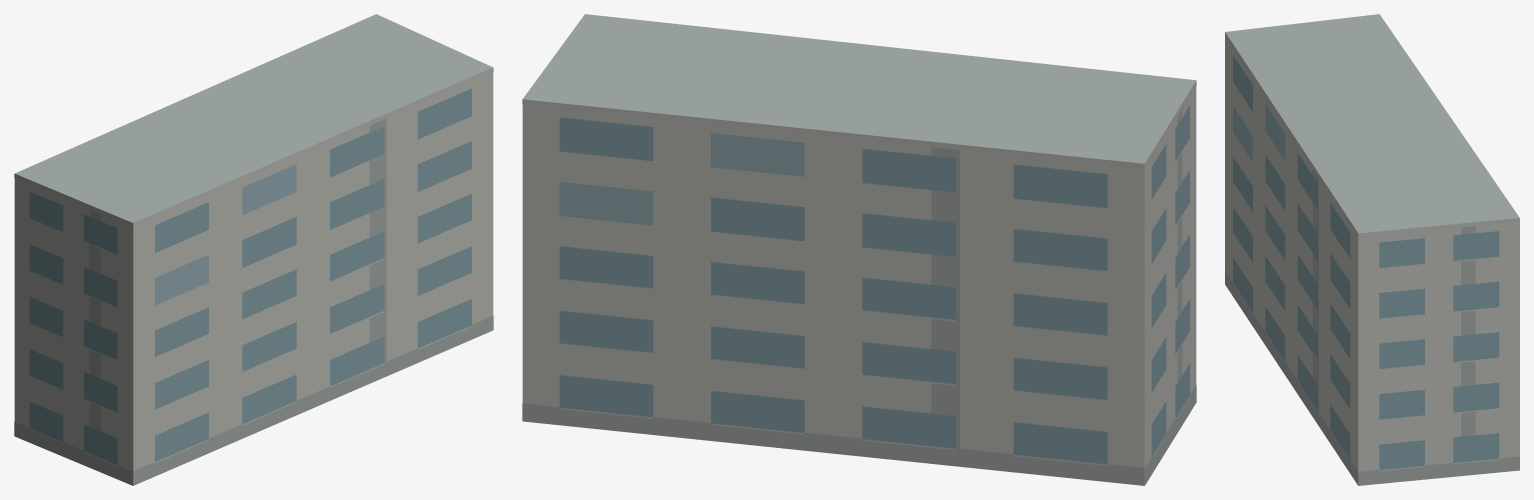
Rendered from survey-upis-32564593.glb.
3 views of the same model, side by side, from view 1: azimuth 30°, elevation 25°; view 2: azimuth 150°, elevation 25°; view 3: azimuth 270°, elevation 25° (orthographic). The views are drawn at different scales.
Visible parts, largest first — view 1: survey-upis-32564593.tmp; view 2: survey-upis-32564593.tmp; view 3: survey-upis-32564593.tmp.
Part boxes in pixels (x1,y1,x2,y2): survey-upis-32564593.tmp: (14, 14, 493, 485); survey-upis-32564593.tmp: (522, 14, 1196, 485); survey-upis-32564593.tmp: (1225, 14, 1519, 485).
Size of the model in its own units: 26.83 by 14.4 by 15.24.
